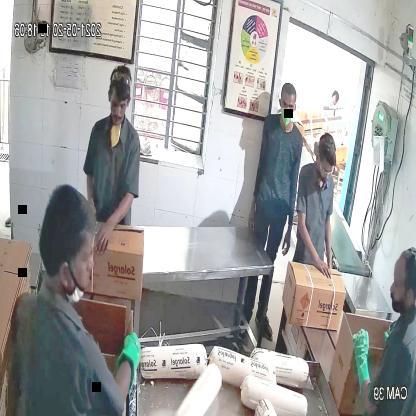goggles: (314, 159, 336, 176)
no_goggles: (107, 95, 132, 113), (276, 98, 298, 113)
